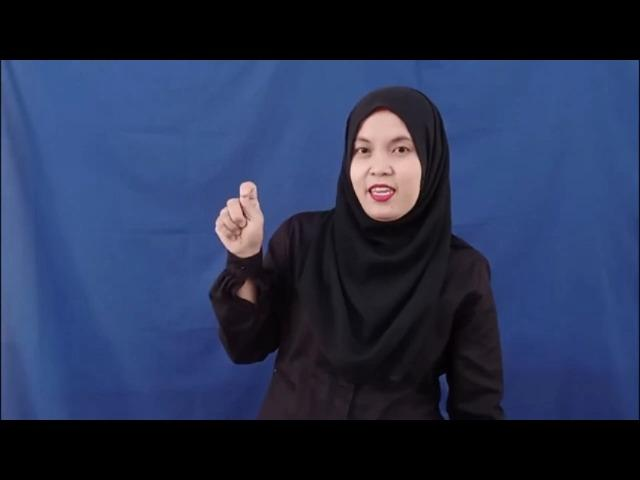T: (214, 182, 266, 256)
